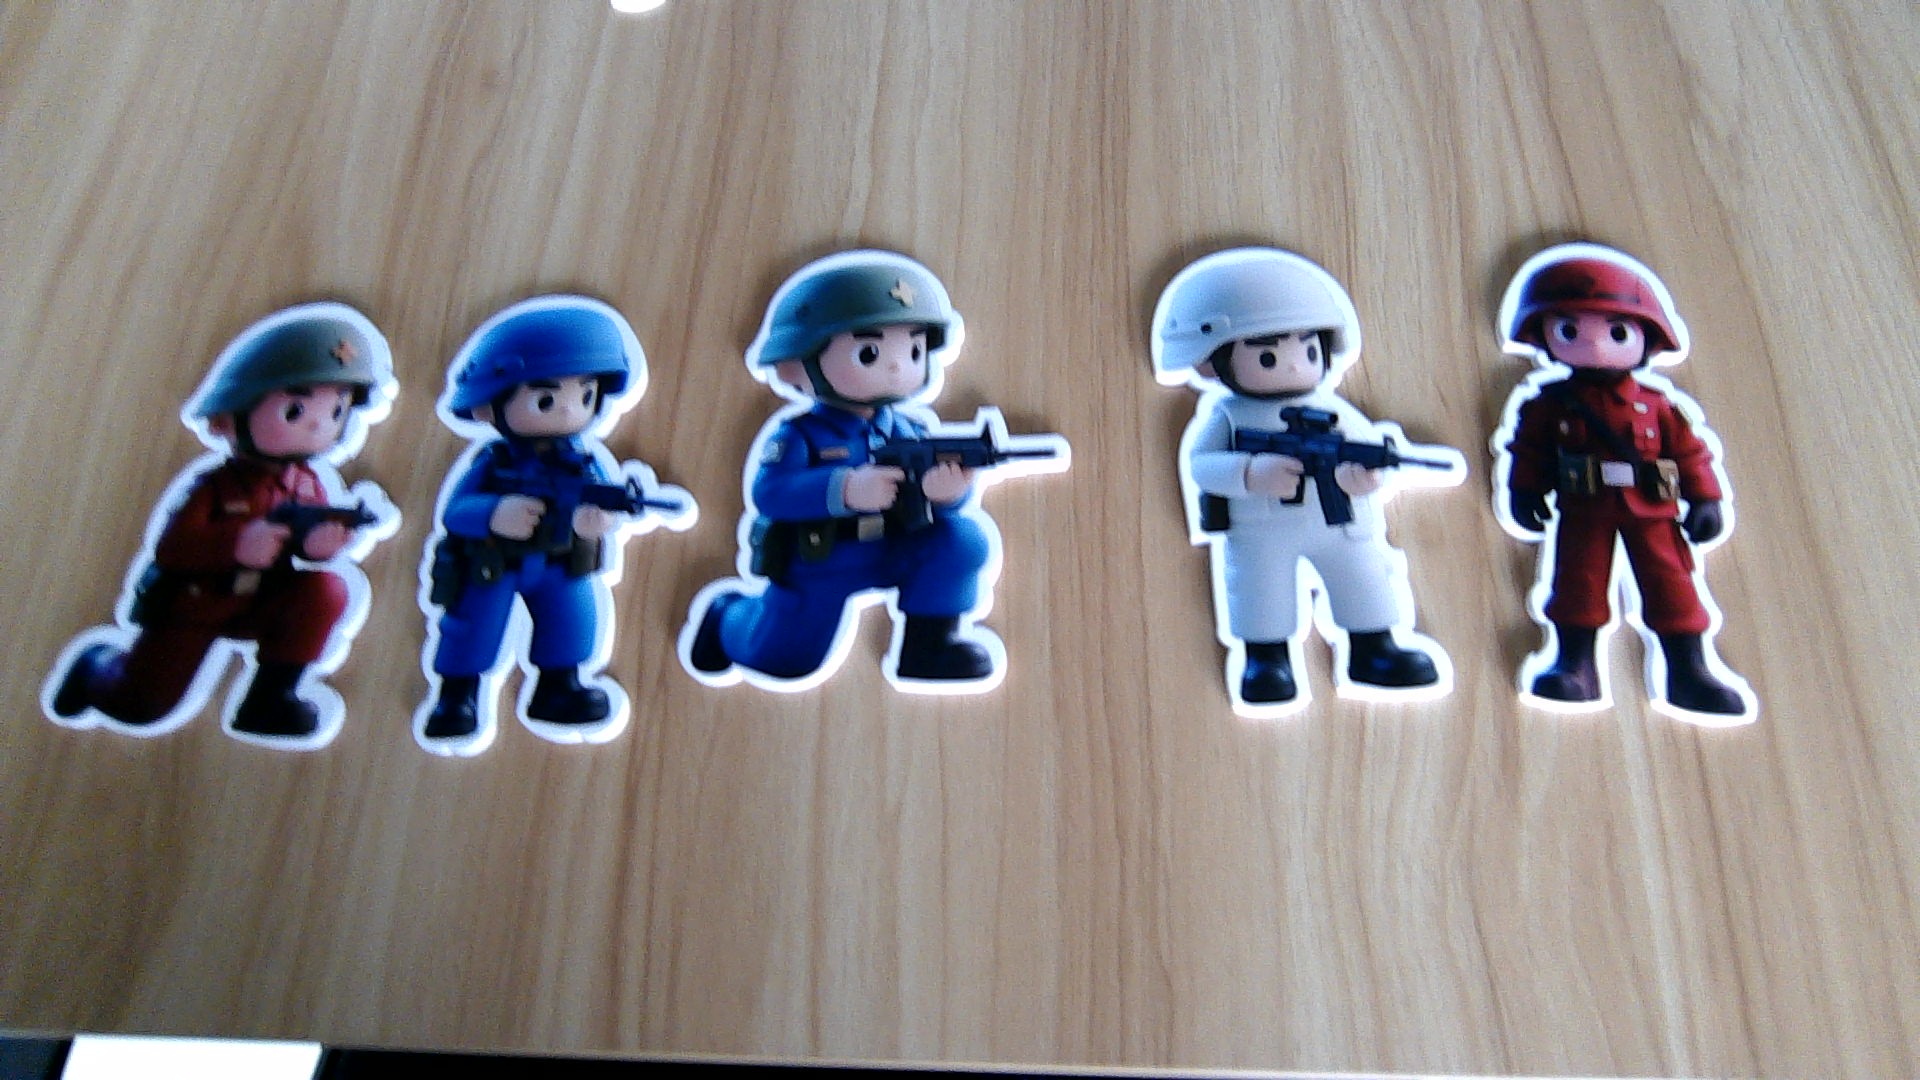人质: (1156, 402, 1466, 717)
敌人1: (1490, 367, 1782, 729), (36, 462, 384, 745)
敌人2: (676, 411, 1067, 702), (413, 440, 659, 750)
